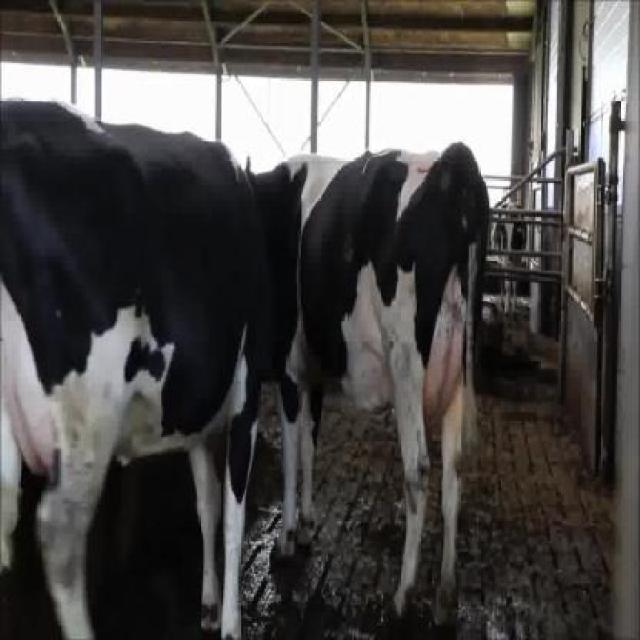Cow: (0, 97, 263, 638), (243, 138, 491, 637)
